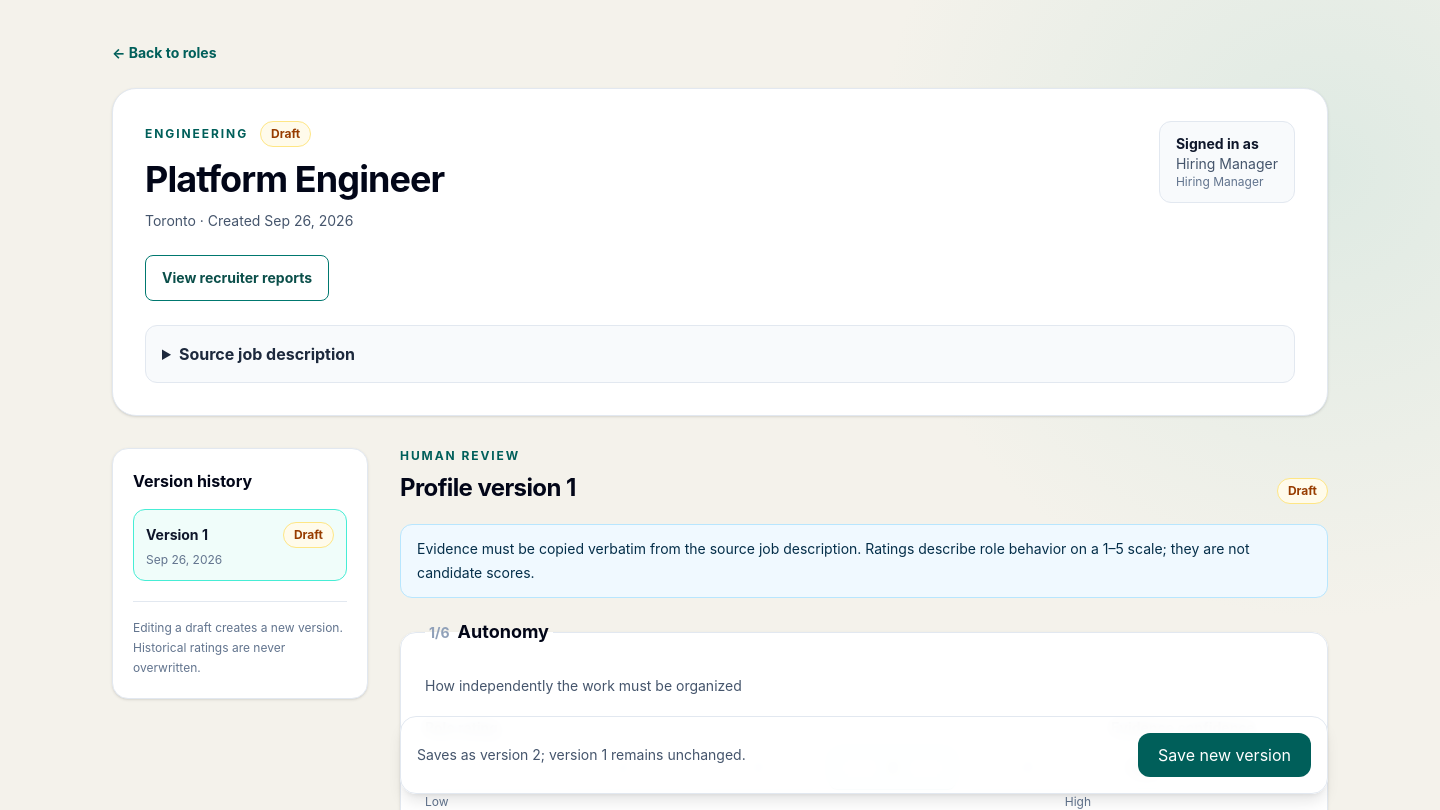
it: RoleProfileWorkspace › lets a hiring manager revise the latest draft without overwriting history
Click the button "Save new version".
click(1224, 755)  # box [1138,733,1311,777]
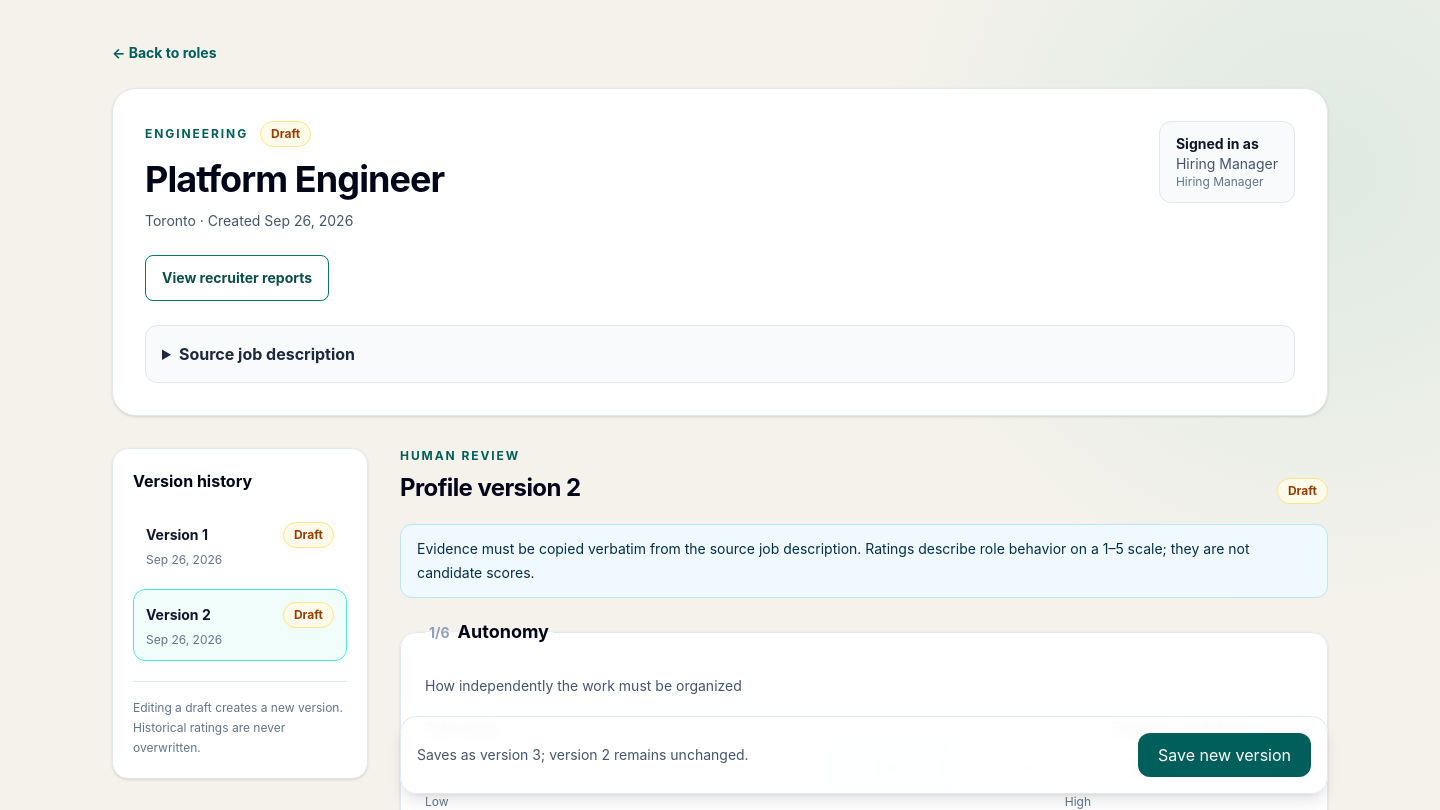
Expected: the text "Version 1" is shown, [146,525,208,545]
Result: the heading "Profile version 2" is shown at [400,472,580,504]
Result: the text "Version 2" is shown at [146,605,211,625]
